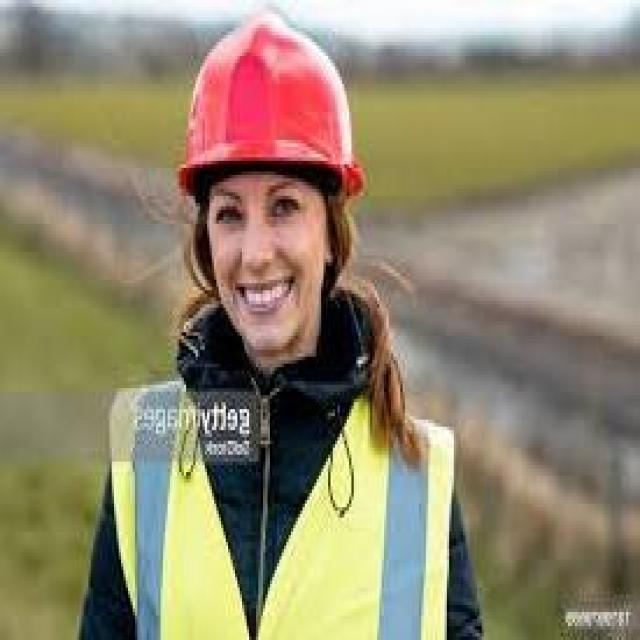Reflective-Jacket: (98, 322, 468, 636)
Safety-Helmet: (170, 10, 372, 210)
